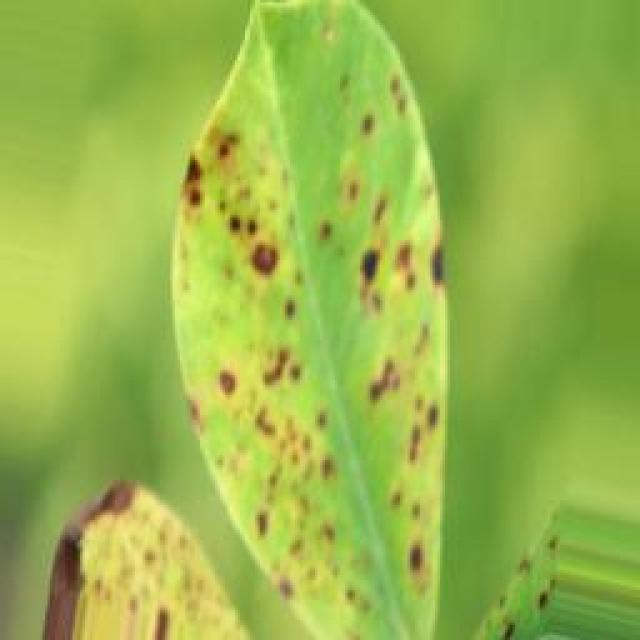Yellowish: (59, 25, 473, 640)
